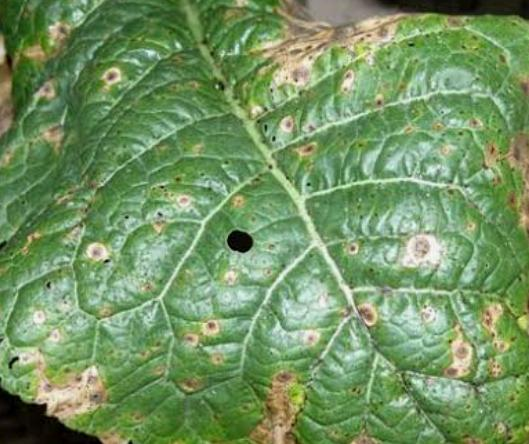Bok-Choy-Diseased: (43, 62, 529, 419)
